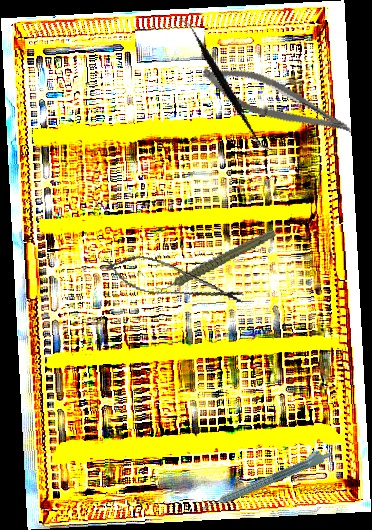Handpiece: (197, 443, 335, 514), (147, 227, 283, 294)
Micro Scissor: (195, 57, 361, 144), (100, 248, 249, 314)
Spatula Surgical: (143, 16, 309, 153)
